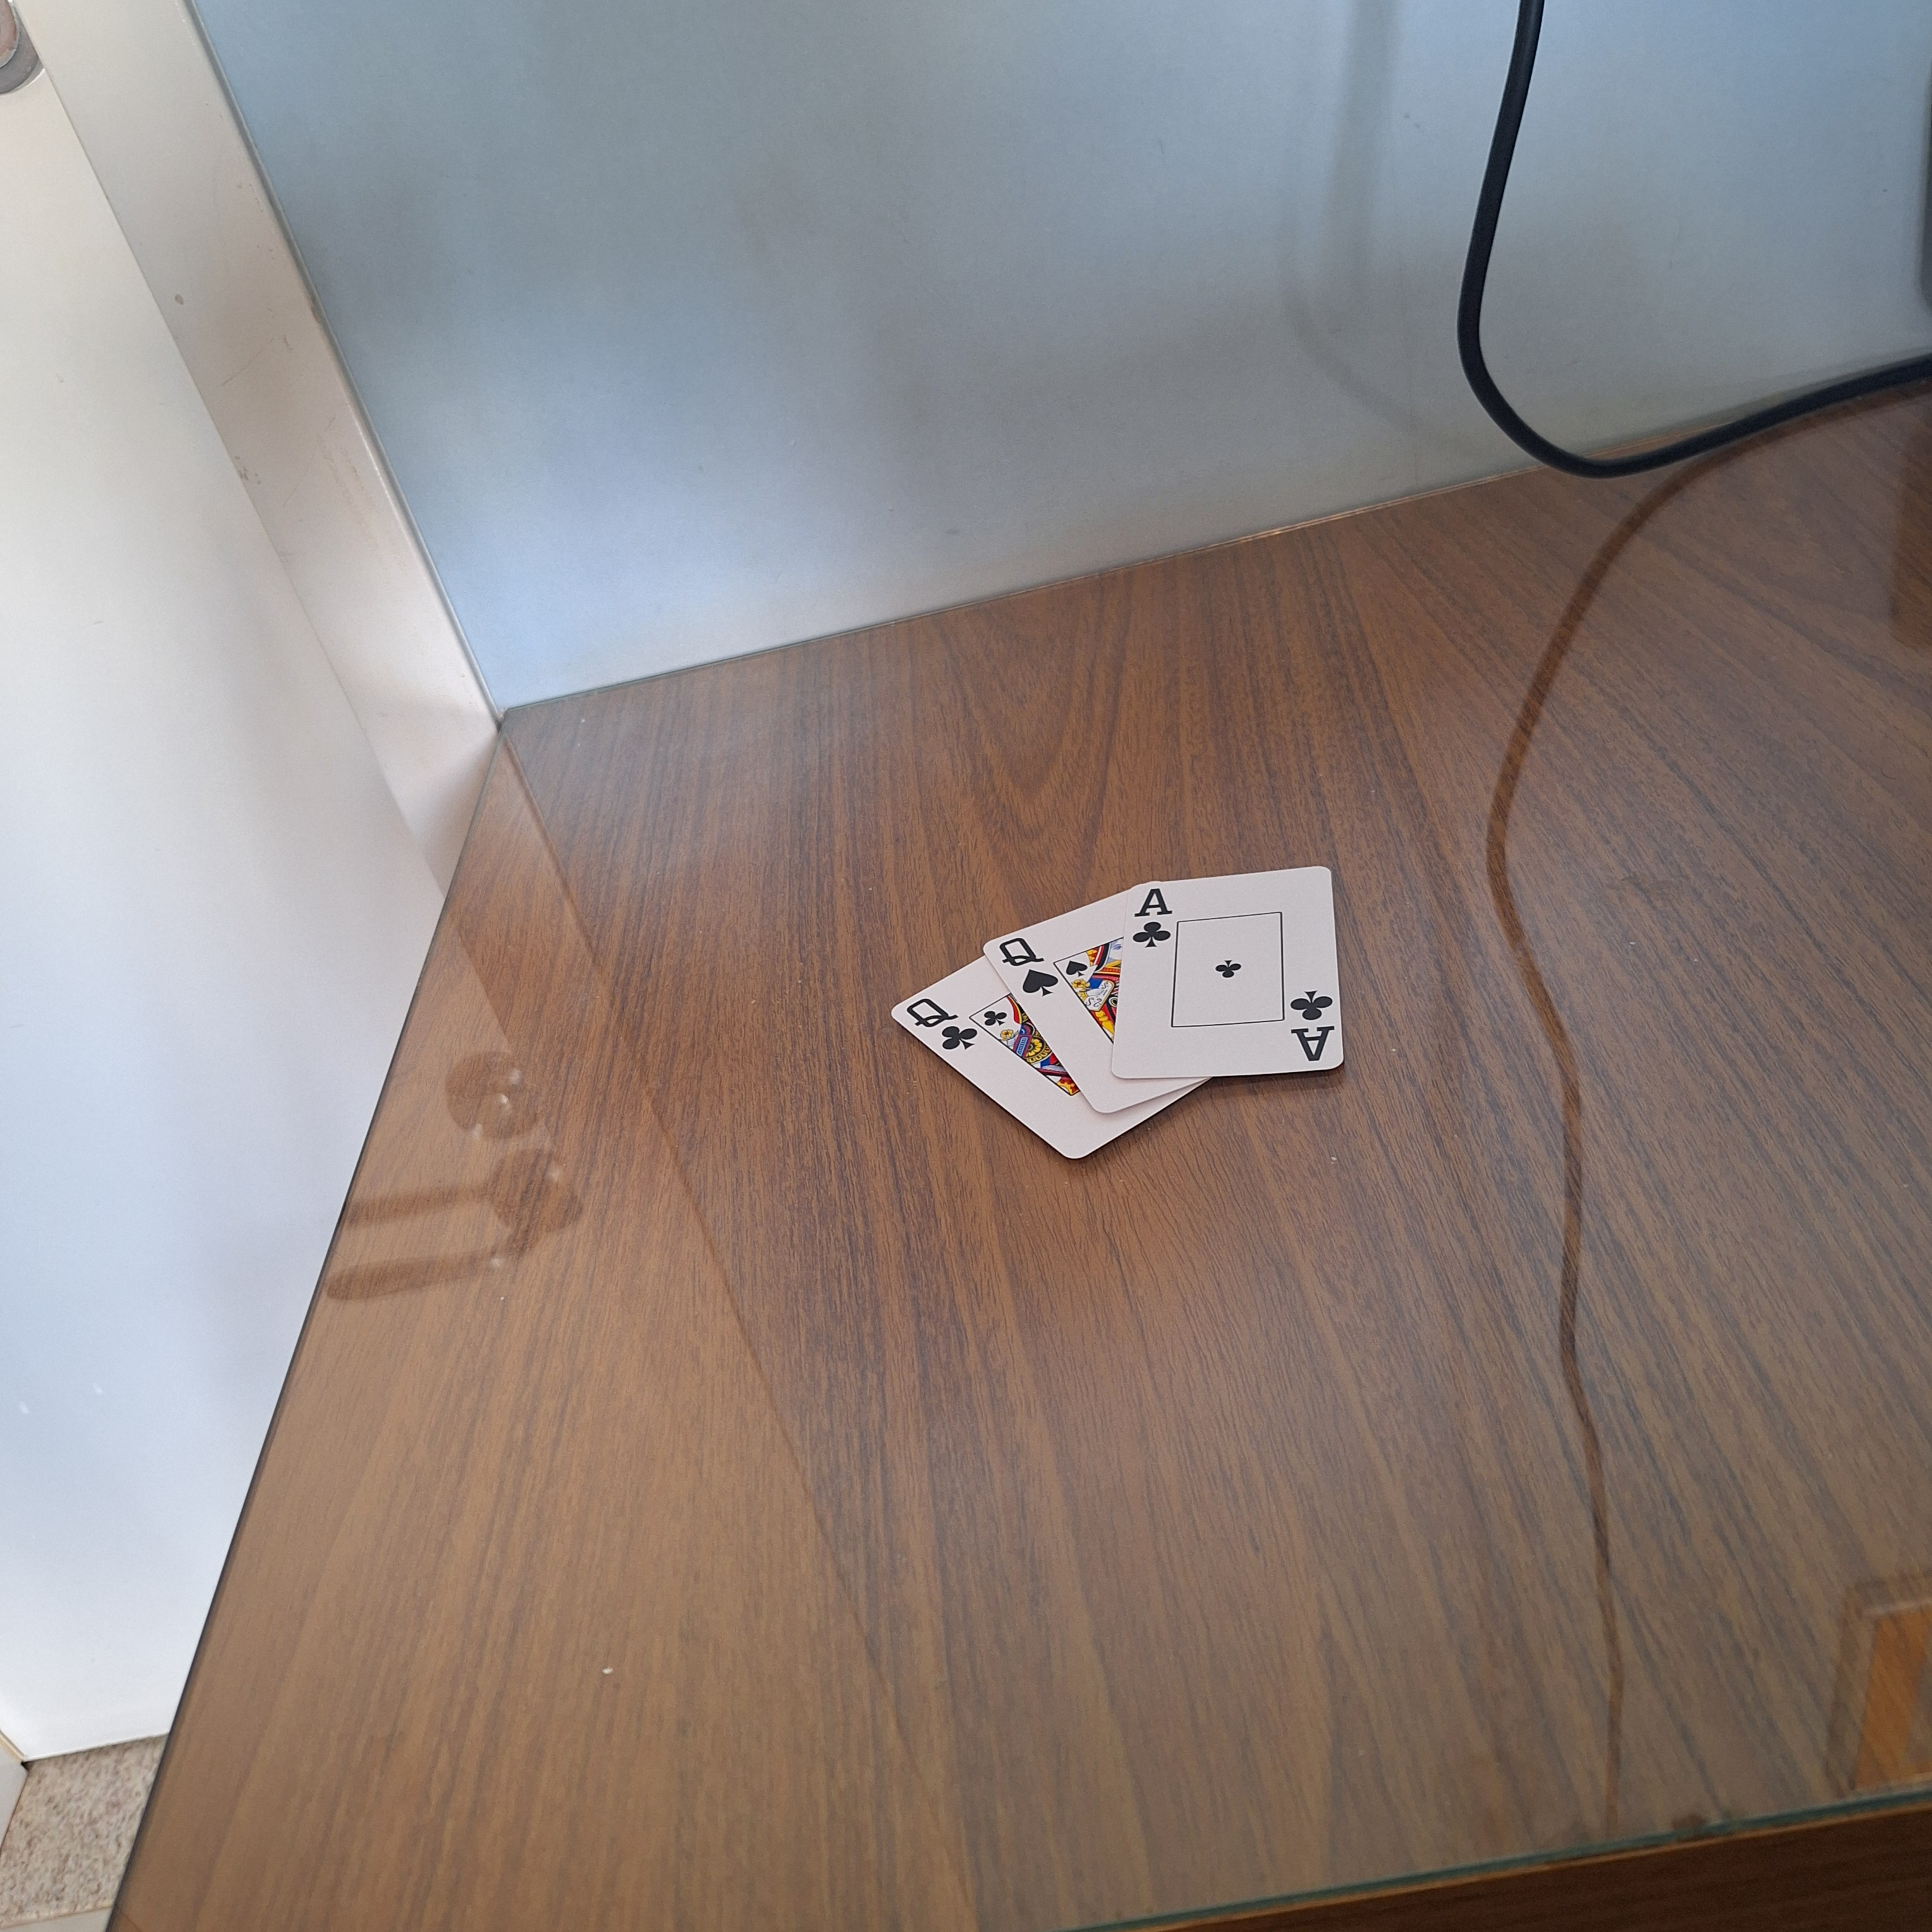AP: (1279, 980, 1346, 1070), (1127, 883, 1177, 957)
QE: (996, 929, 1060, 998)
QP: (901, 993, 978, 1056)
